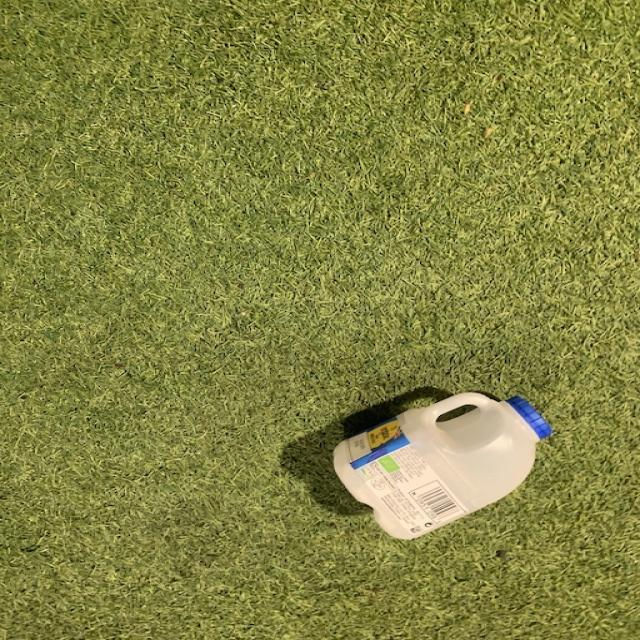litter: (330, 389, 556, 542)
